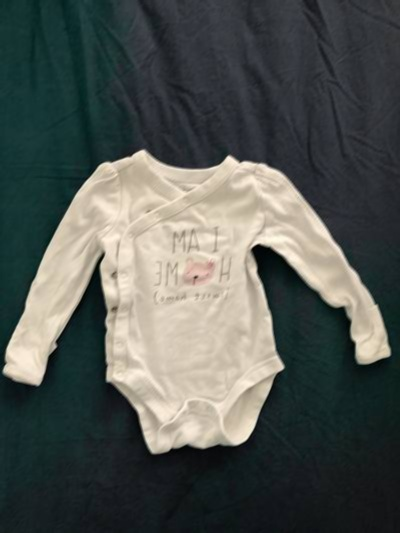Body: (1, 137, 399, 464)
